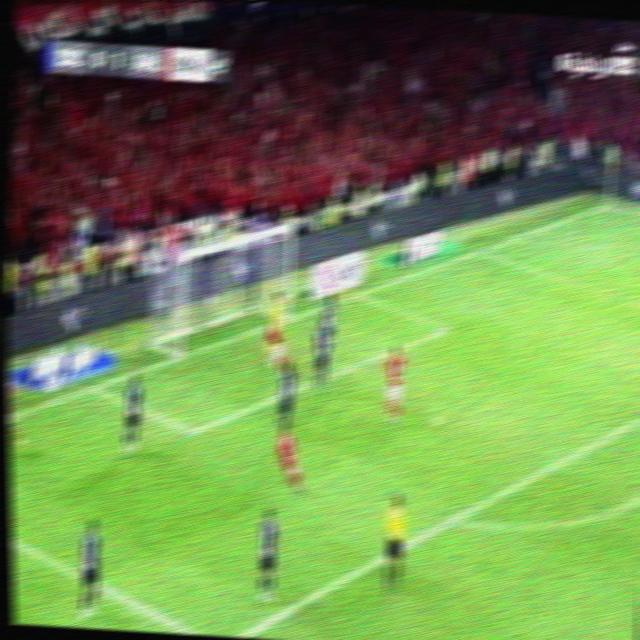bigarea_top_outter: (471, 242, 489, 259)
bottom_arc_area_intersection: (436, 502, 467, 537)
corner: (596, 199, 622, 217)
smallarea_bottom_inner: (179, 419, 203, 448)
smallarea_bottom_outter: (83, 379, 102, 398)
smallarea_top_inner: (434, 318, 453, 338)
smallarea_top_outter: (347, 288, 367, 304)
top_arc_area_intersection: (631, 407, 640, 429)
